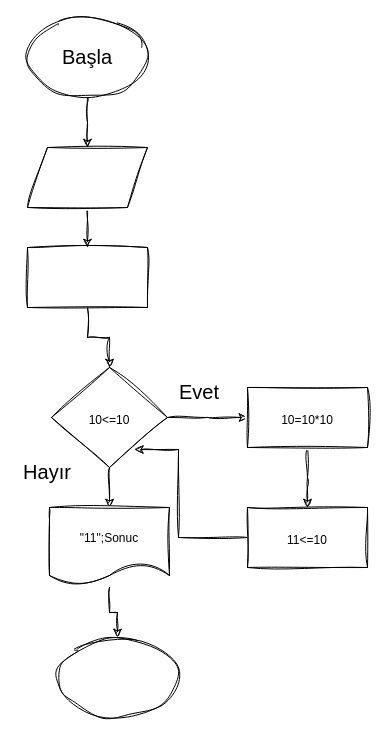
Image size: 385x735. Some labels were removed from this diagram. Here are the shapes that lost their labels. From the top down, the centre of each, then its label:
the point at 87,177: "Sayı gir",(10)
the point at 87,277: Sayac=10 Sonuc=10
the point at 117,677: Bitir
